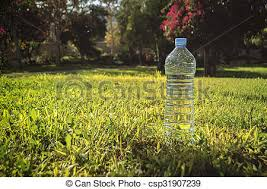plastic_bottle: (162, 36, 199, 145)
